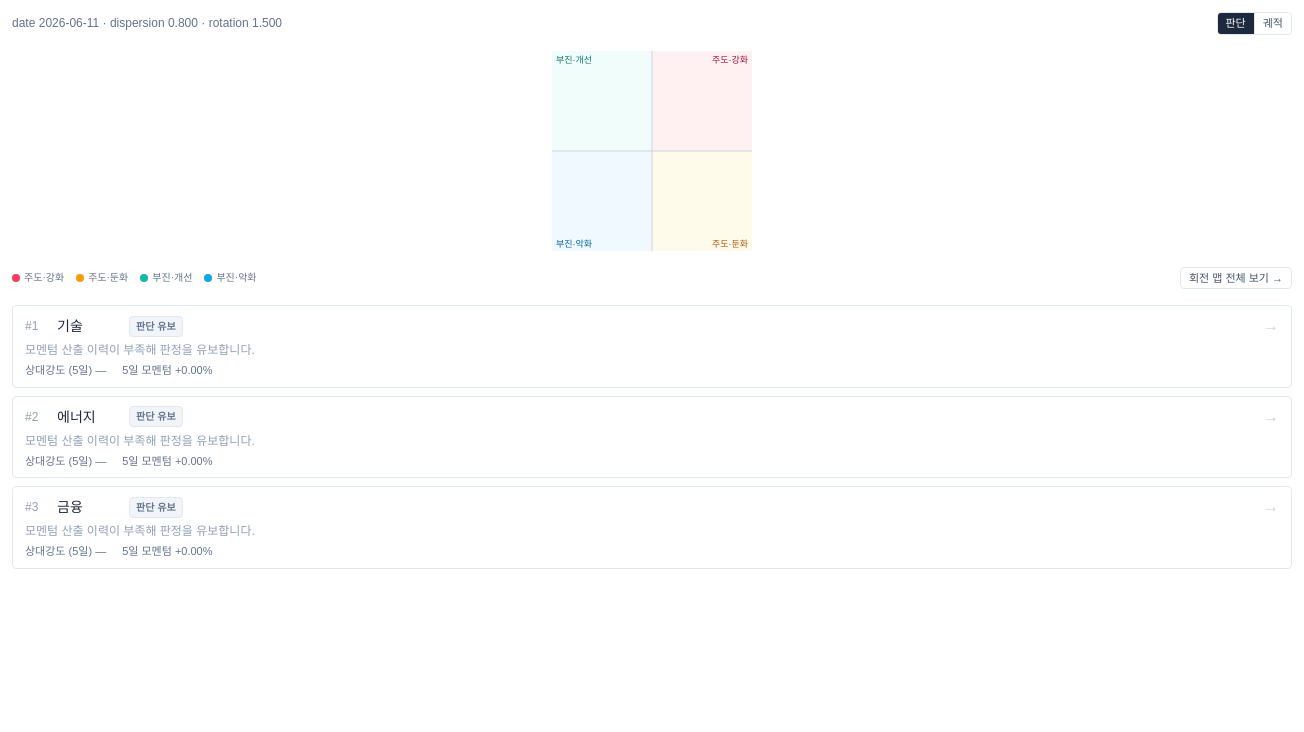
it: SectorDetail — 인라인 스파크라인 통합 › sector_history 없으면 인라인 섹션 미렌더(additive)
This screenshot has width=1304, height=732.
Click the tab with test id "sector-tab-trajectory" at (1272, 23), box [1254,13,1291,34]
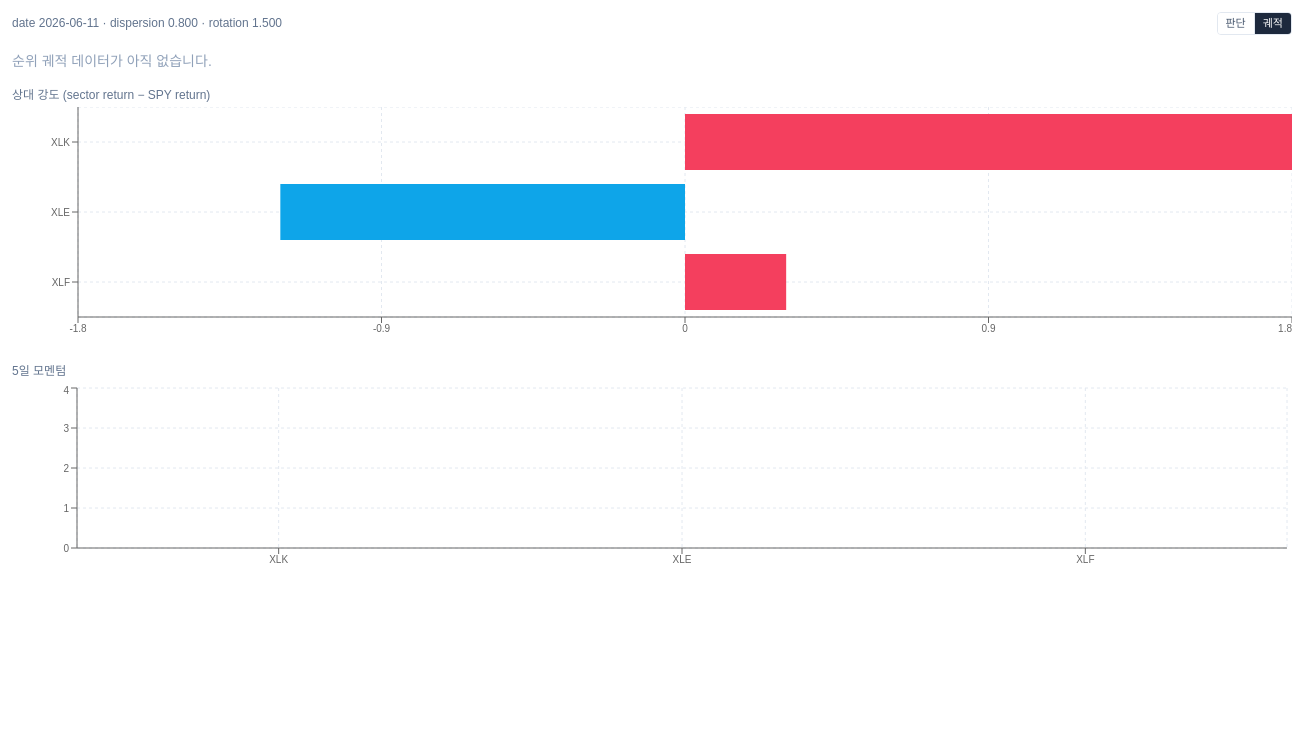
Now the list item "주도·강화" is gone
